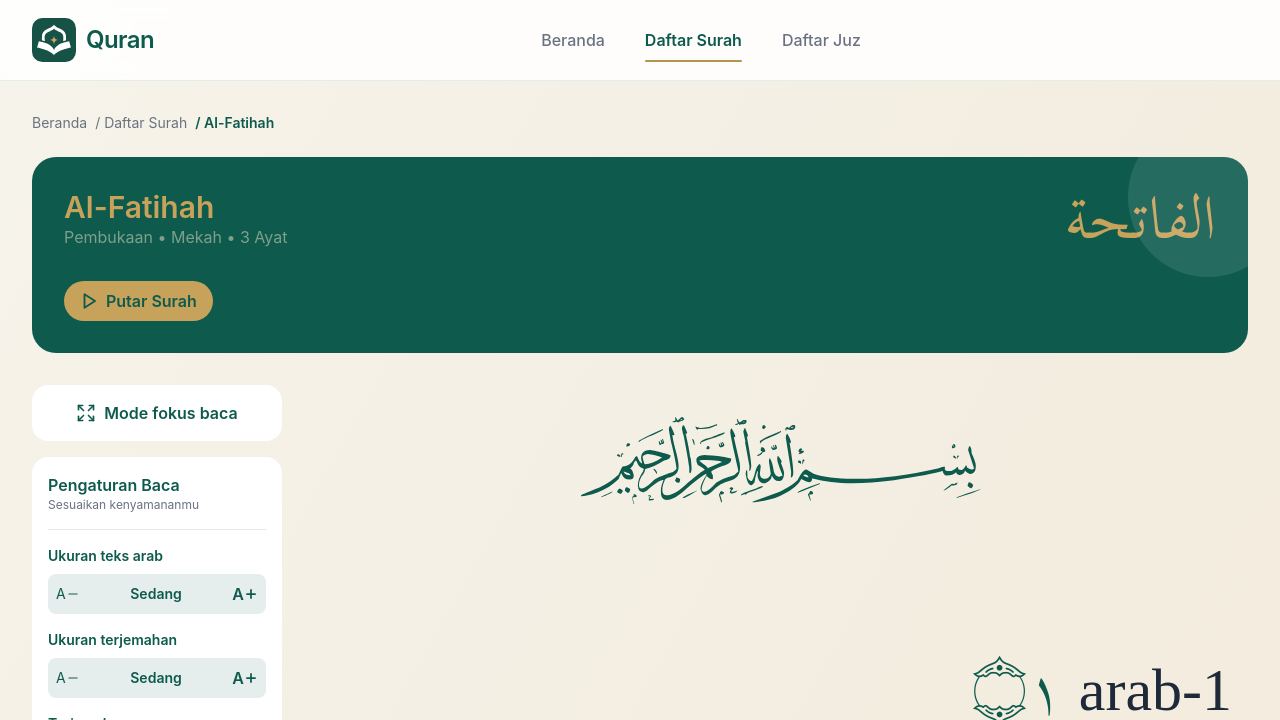
Test: SurahDetailView › pemutaran audio › memutar surah penuh dari header
The image size is (1280, 720).
Click the button "Putar Surah": {"x": 138, "y": 301} [64,281,213,321]
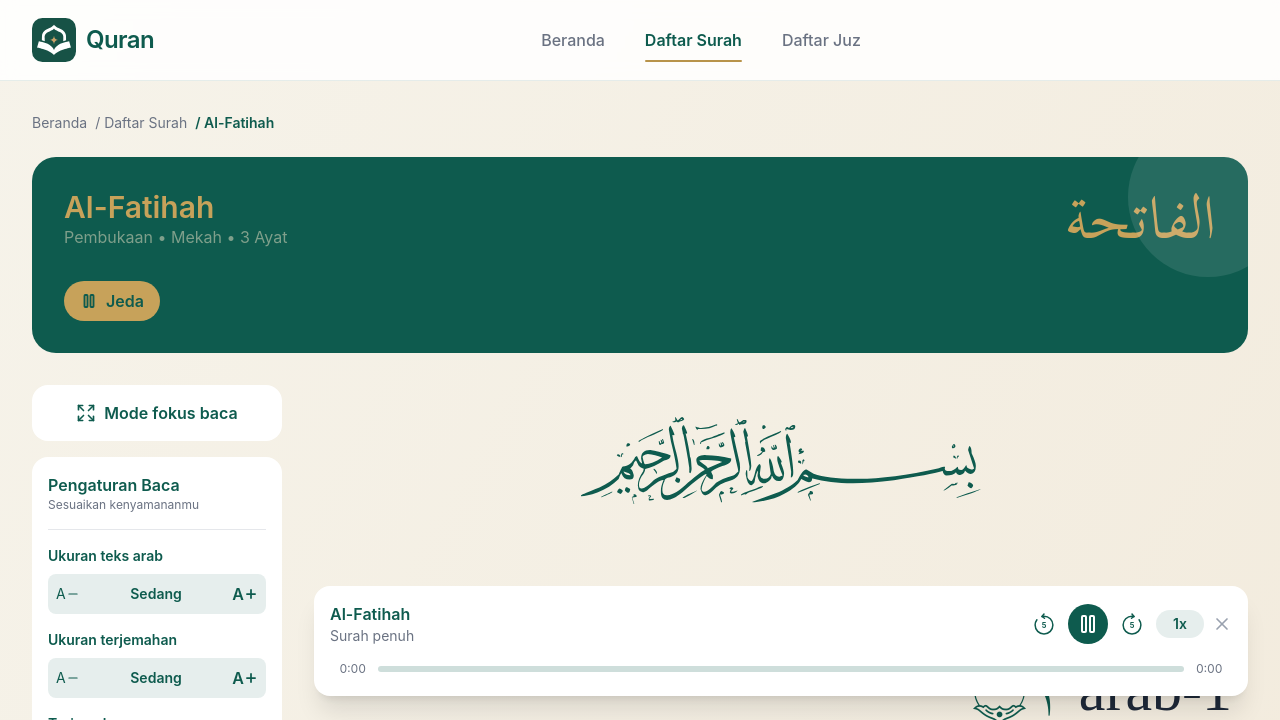
Now the text "Surah penuh" is shown, box [330,627,414,644]
